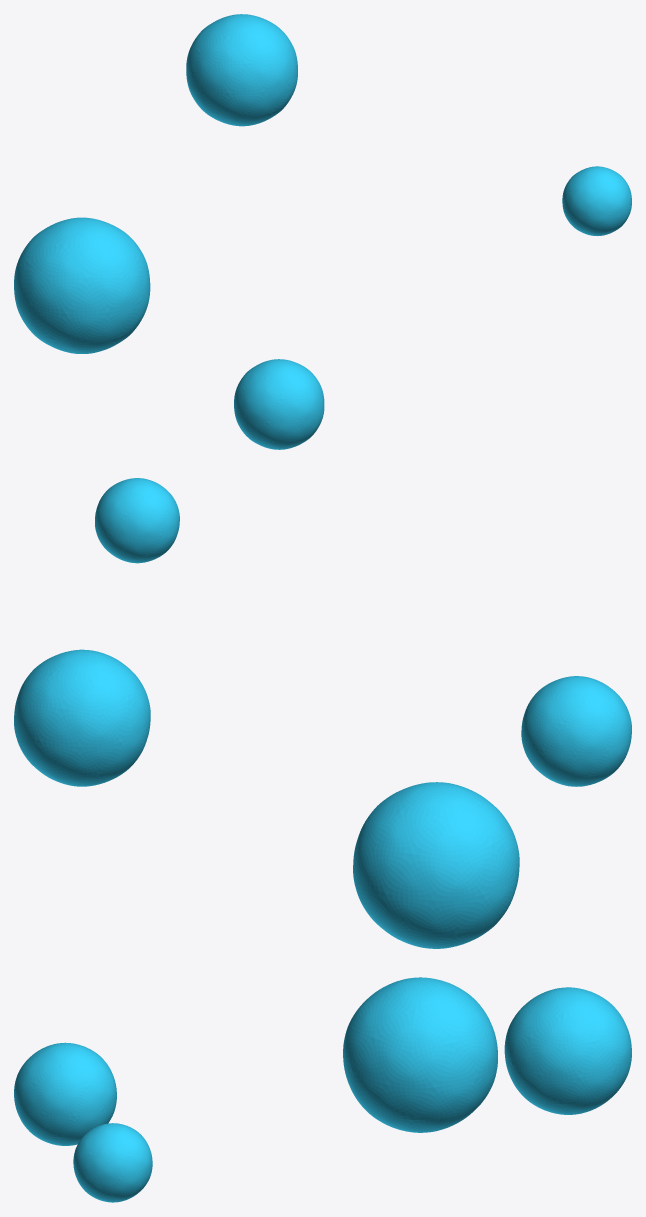
File: waterSky000.fbx
3 renders of one model, top to bottom at view 1: azimuth 30°, elevation 25°; view 2: azimuth 150°, elevation 25°; view 3: azimuth 270°, elevation 25°, orthographic. The views are drawn at different scales.
Parts seen in each view (by area): view 1: waterSky; view 2: waterSky; view 3: waterSky.
Boxes of the visible parts, x1,y1,x2,y2 form: waterSky: [14, 14, 631, 449]; waterSky: [14, 478, 631, 948]; waterSky: [14, 977, 631, 1202].
Size of the model in its own units: 117 by 54 by 117.
